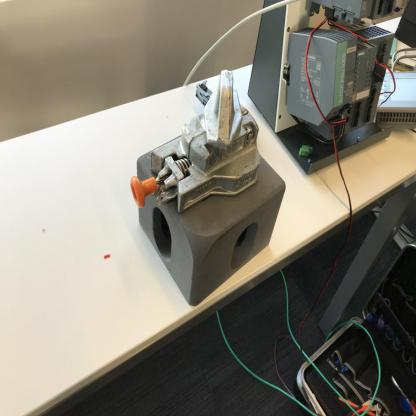CornerCasting: (133, 150, 288, 308)
Twistlock: (127, 68, 274, 217)
